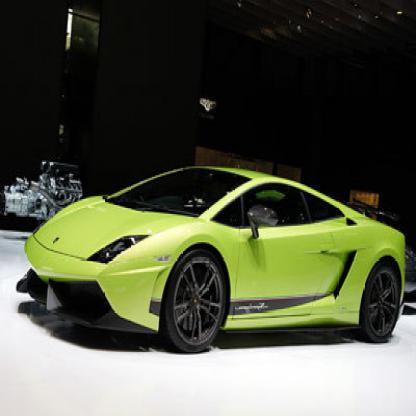Vehicle: (18, 166, 406, 354)
